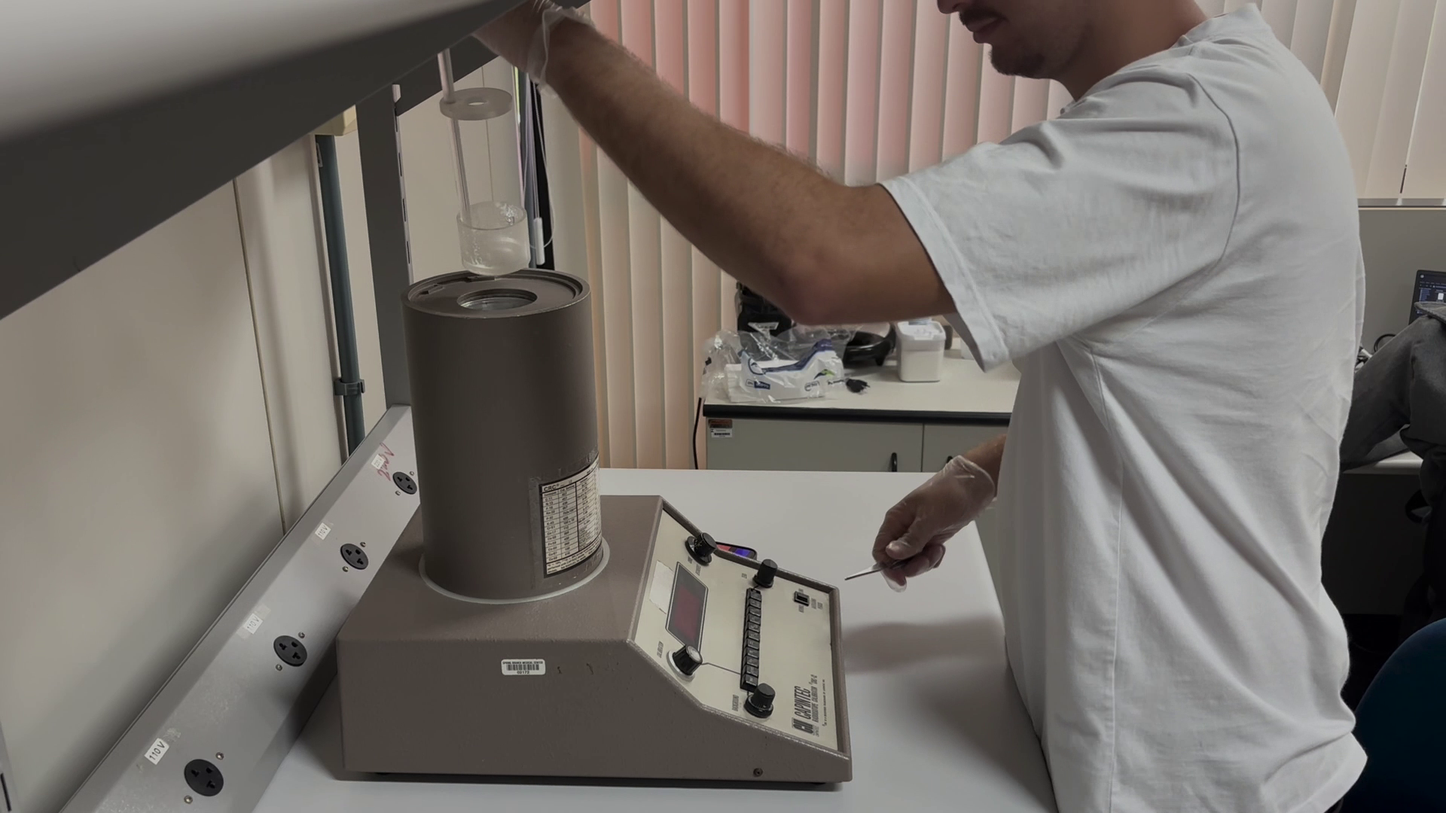Ativimetro: (398, 267, 609, 606)
Cesta: (434, 53, 533, 276)
Com_Luva: (870, 452, 998, 587)
